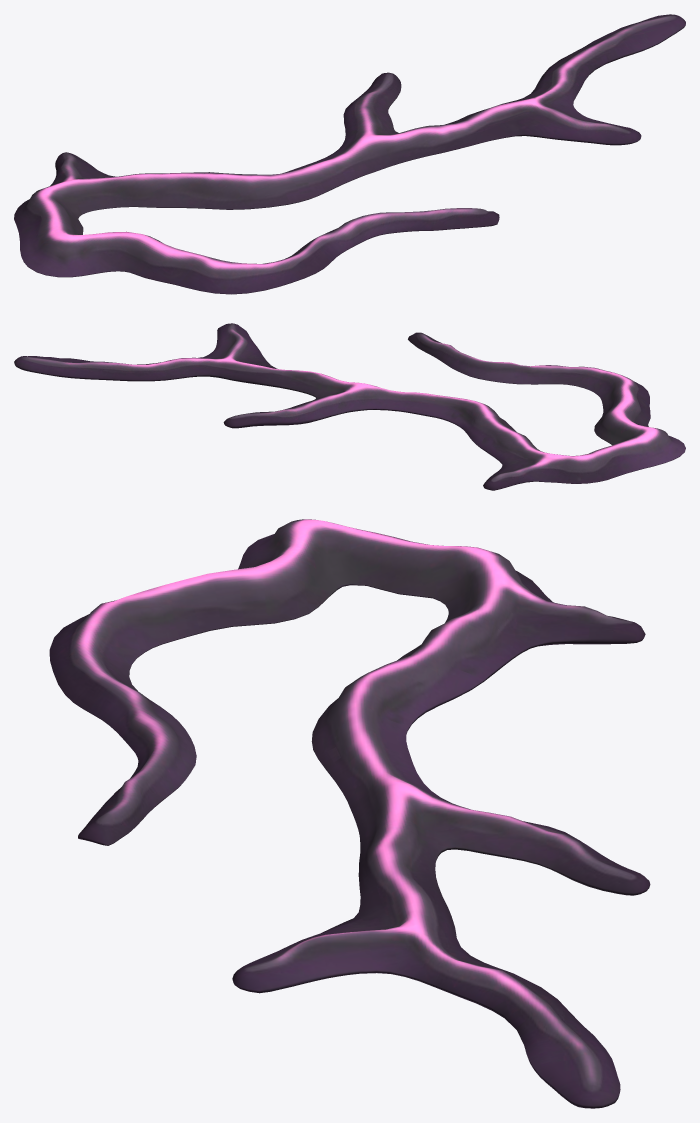
The model's file is caos_sts_chaosgrowth_02a_chaos_v36.glb.
3 renders of one model, top to bottom at view 1: azimuth 30°, elevation 25°; view 2: azimuth 150°, elevation 25°; view 3: azimuth 270°, elevation 25°, orthographic. The views are drawn at different scales.
Parts seen in each view (by area): view 1: caos_sts_chaosgrowth_02a; view 2: caos_sts_chaosgrowth_02a; view 3: caos_sts_chaosgrowth_02a.
Part boxes in pixels (x1,y1,x2,y2): caos_sts_chaosgrowth_02a: (14, 14, 685, 294); caos_sts_chaosgrowth_02a: (14, 323, 685, 490); caos_sts_chaosgrowth_02a: (49, 519, 650, 1108).
Size of the model in its own units: 36.38 by 1.12 by 15.92.
1 material, 1 textured.
